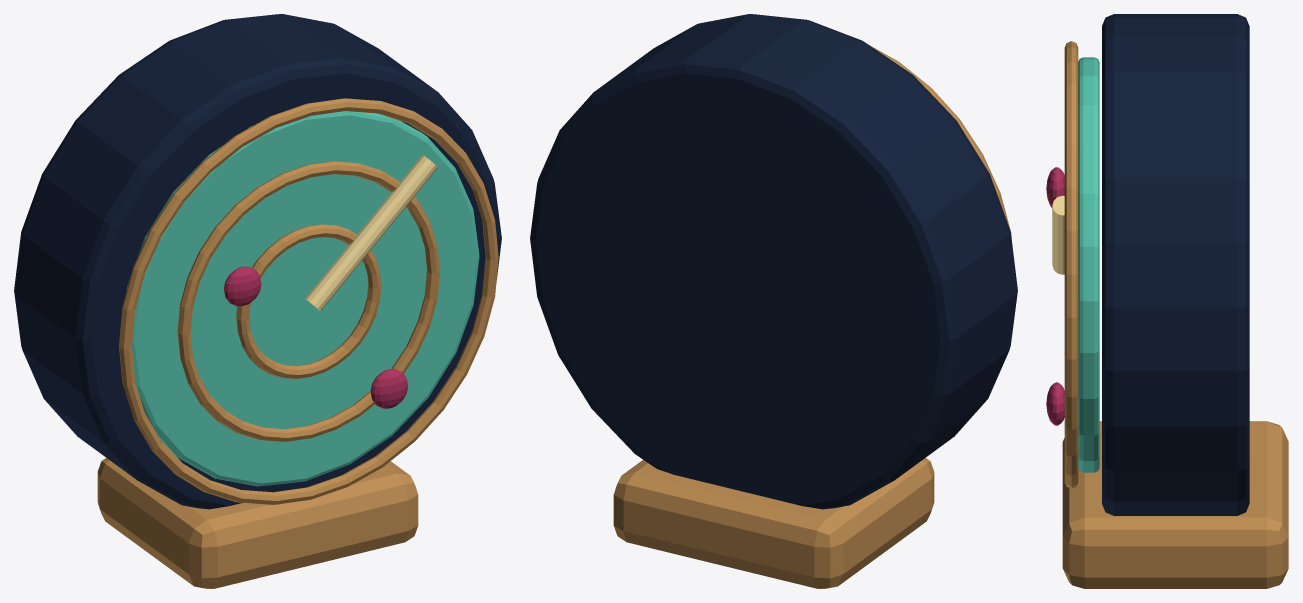
File: Item_map_radar.fbx
The picture shows the model from 3 angles, left to right: view 1: azimuth 30°, elevation 25°; view 2: azimuth 150°, elevation 25°; view 3: azimuth 270°, elevation 25°; orthographic projection. The views are drawn at different scales.
Visible parts, largest first — view 1: Item_map_radar.Mesh; view 2: Item_map_radar.Mesh; view 3: Item_map_radar.Mesh.
Boxes of the visible parts, <box> form: Item_map_radar.Mesh: <box>14,14,501,588</box>; Item_map_radar.Mesh: <box>530,14,1017,588</box>; Item_map_radar.Mesh: <box>1046,14,1288,588</box>.
Bounding box in the file's own units: 58 × 64 × 27.9.
